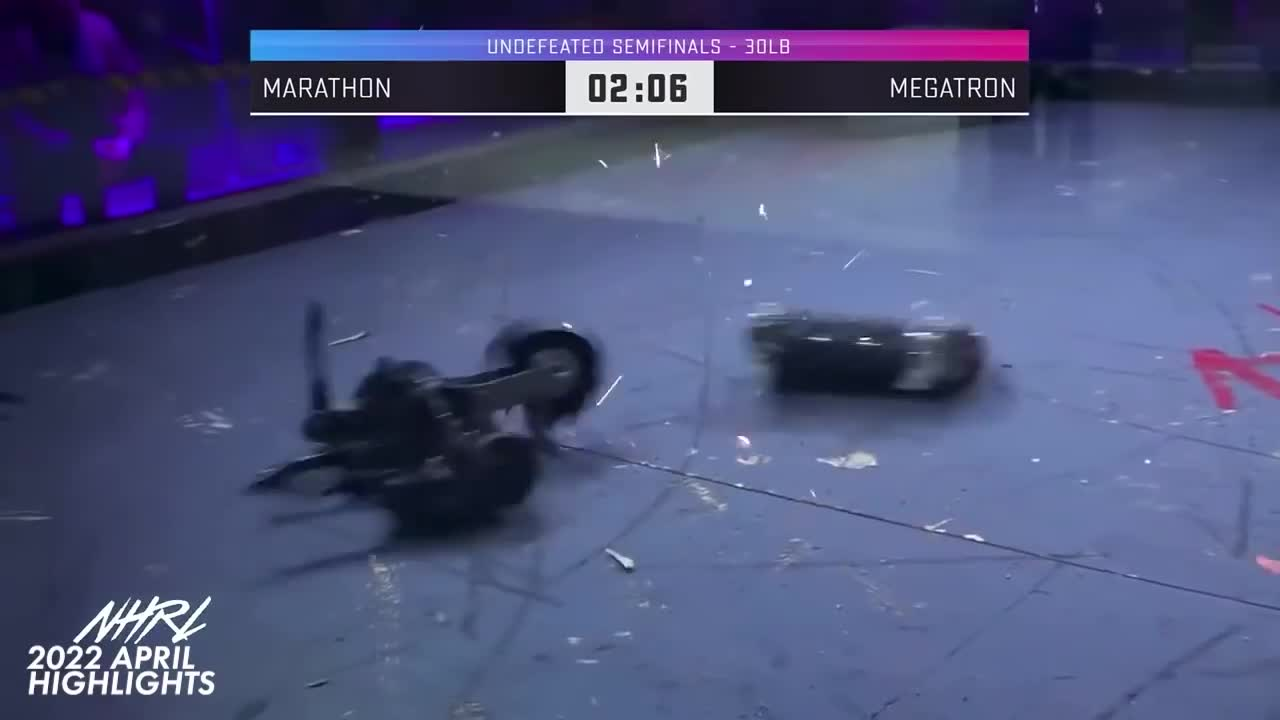combatbot: (311, 313, 605, 531), (750, 308, 995, 404)
